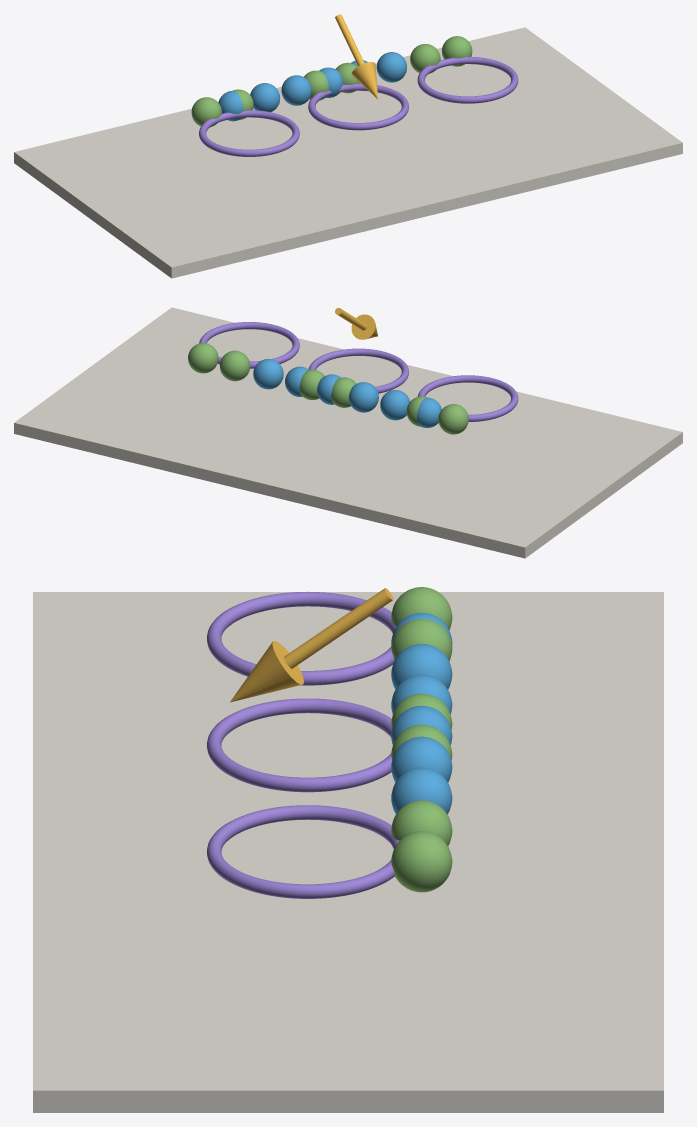
File: math-number-division.glb
3 views of the same model, one above another, from view 1: azimuth 30°, elevation 25°; view 2: azimuth 150°, elevation 25°; view 3: azimuth 270°, elevation 25° (orthographic). The views are drawn at different scales.
Parts seen in each view (by area): view 1: number-sense-base, equal-share-bowl-3, equal-share-bowl-1, equal-share-bowl-2, six-counters-before-sharing-counter-6, six-counters-before-sharing-counter-3, six-counters-before-sharing-counter-2, share-3-counter-1, share-1-counter-1, share-3-counter-2, divide-into-equal-groups-arrow-head, six-counters-before-sharing-counter-1 (+3 smaller); view 2: number-sense-base, equal-share-bowl-1, equal-share-bowl-3, equal-share-bowl-2, six-counters-before-sharing-counter-6, share-1-counter-1, share-3-counter-1, share-3-counter-2, six-counters-before-sharing-counter-3, six-counters-before-sharing-counter-2, six-counters-before-sharing-counter-1, share-2-counter-1 (+4 smaller); view 3: number-sense-base, equal-share-bowl-3, equal-share-bowl-2, equal-share-bowl-1, share-3-counter-2, divide-into-equal-groups-arrow-head, six-counters-before-sharing-counter-6, divide-into-equal-groups-arrow-shaft, six-counters-before-sharing-counter-2, six-counters-before-sharing-counter-5, share-3-counter-1, share-1-counter-1 (+5 smaller).
Boxes of the visible parts, x1,y1,x2,y2 form: number-sense-base: [14, 27, 682, 278]; equal-share-bowl-3: [417, 56, 518, 103]; equal-share-bowl-1: [199, 110, 299, 156]; equal-share-bowl-2: [308, 83, 408, 130]; six-counters-before-sharing-counter-6: [376, 52, 406, 82]; six-counters-before-sharing-counter-3: [281, 75, 311, 105]; six-counters-before-sharing-counter-2: [250, 83, 279, 112]; share-3-counter-1: [410, 44, 440, 73]; share-1-counter-1: [191, 97, 221, 127]; share-3-counter-2: [442, 36, 472, 66]; divide-into-equal-groups-arrow-head: [351, 62, 378, 99]; six-counters-before-sharing-counter-1: [218, 90, 243, 121]; number-sense-base: [14, 307, 682, 558]; equal-share-bowl-1: [417, 375, 518, 421]; equal-share-bowl-3: [199, 322, 299, 368]; equal-share-bowl-2: [308, 348, 408, 393]; six-counters-before-sharing-counter-6: [253, 359, 283, 389]; share-1-counter-1: [438, 404, 468, 434]; share-3-counter-1: [219, 350, 250, 381]; share-3-counter-2: [188, 343, 218, 373]; six-counters-before-sharing-counter-3: [349, 382, 378, 412]; six-counters-before-sharing-counter-2: [380, 390, 409, 420]; six-counters-before-sharing-counter-1: [417, 397, 441, 427]; share-2-counter-1: [331, 377, 356, 407]; number-sense-base: [33, 592, 663, 1112]; equal-share-bowl-3: [207, 805, 399, 898]; equal-share-bowl-2: [207, 698, 392, 792]; equal-share-bowl-1: [207, 591, 396, 685]; share-3-counter-2: [391, 831, 452, 892]; divide-into-equal-groups-arrow-head: [230, 641, 303, 702]; six-counters-before-sharing-counter-6: [391, 767, 452, 814]; divide-into-equal-groups-arrow-shaft: [284, 588, 393, 668]; six-counters-before-sharing-counter-2: [391, 644, 452, 689]; six-counters-before-sharing-counter-5: [391, 736, 452, 782]; share-3-counter-1: [391, 800, 452, 845]; share-1-counter-1: [391, 587, 452, 629].
Size of what is drawn, in the model's own units: 2.9 by 0.7444 by 1.55.
